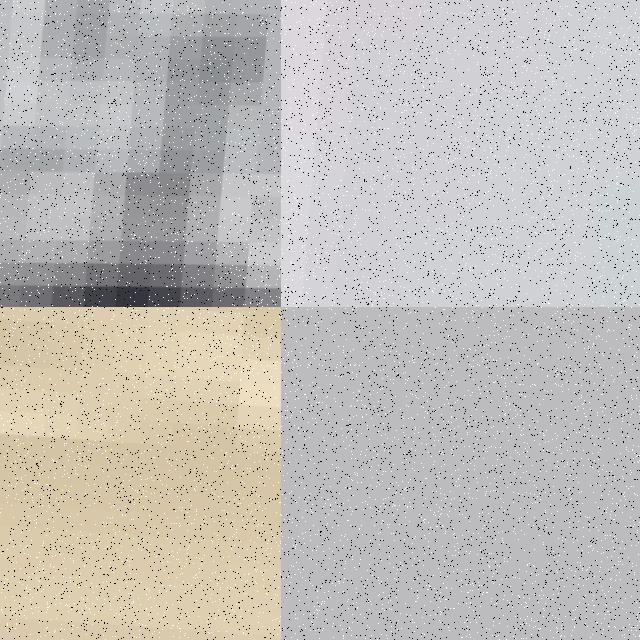0: (0, 0, 281, 307)
drone: (281, 0, 640, 307)
